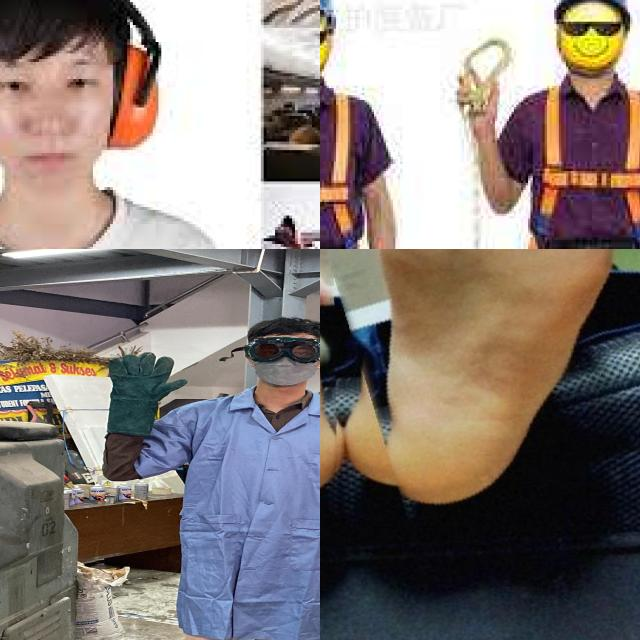Barefoots: (368, 249, 617, 485)
Ear-protection: (104, 36, 158, 148)
Harness: (520, 78, 640, 249), (320, 86, 366, 249)
face_mask: (238, 336, 320, 388)
glasses: (233, 331, 320, 365)
hand_glove: (98, 348, 188, 408)
head_nohelmet: (244, 312, 320, 341)
person: (70, 315, 320, 640)
